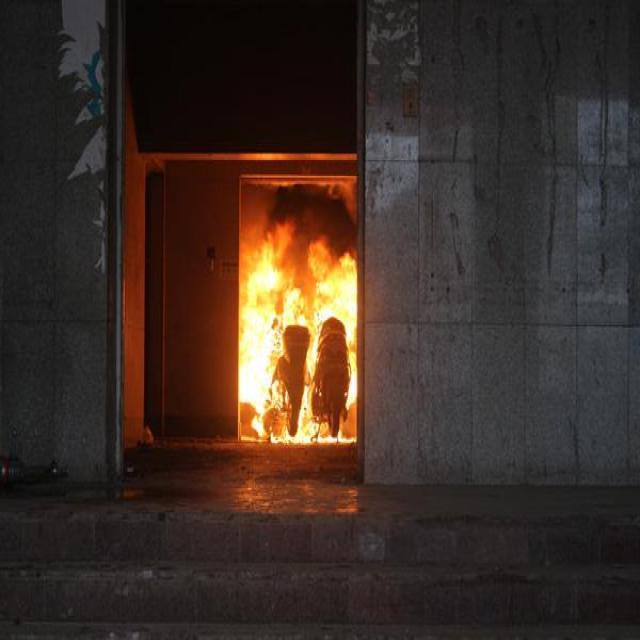Fire: (238, 215, 358, 440)
